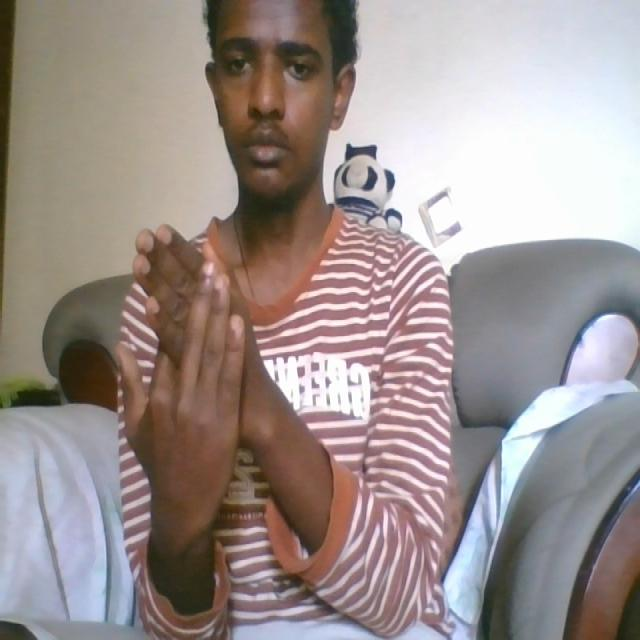bekul: (109, 215, 268, 566)
